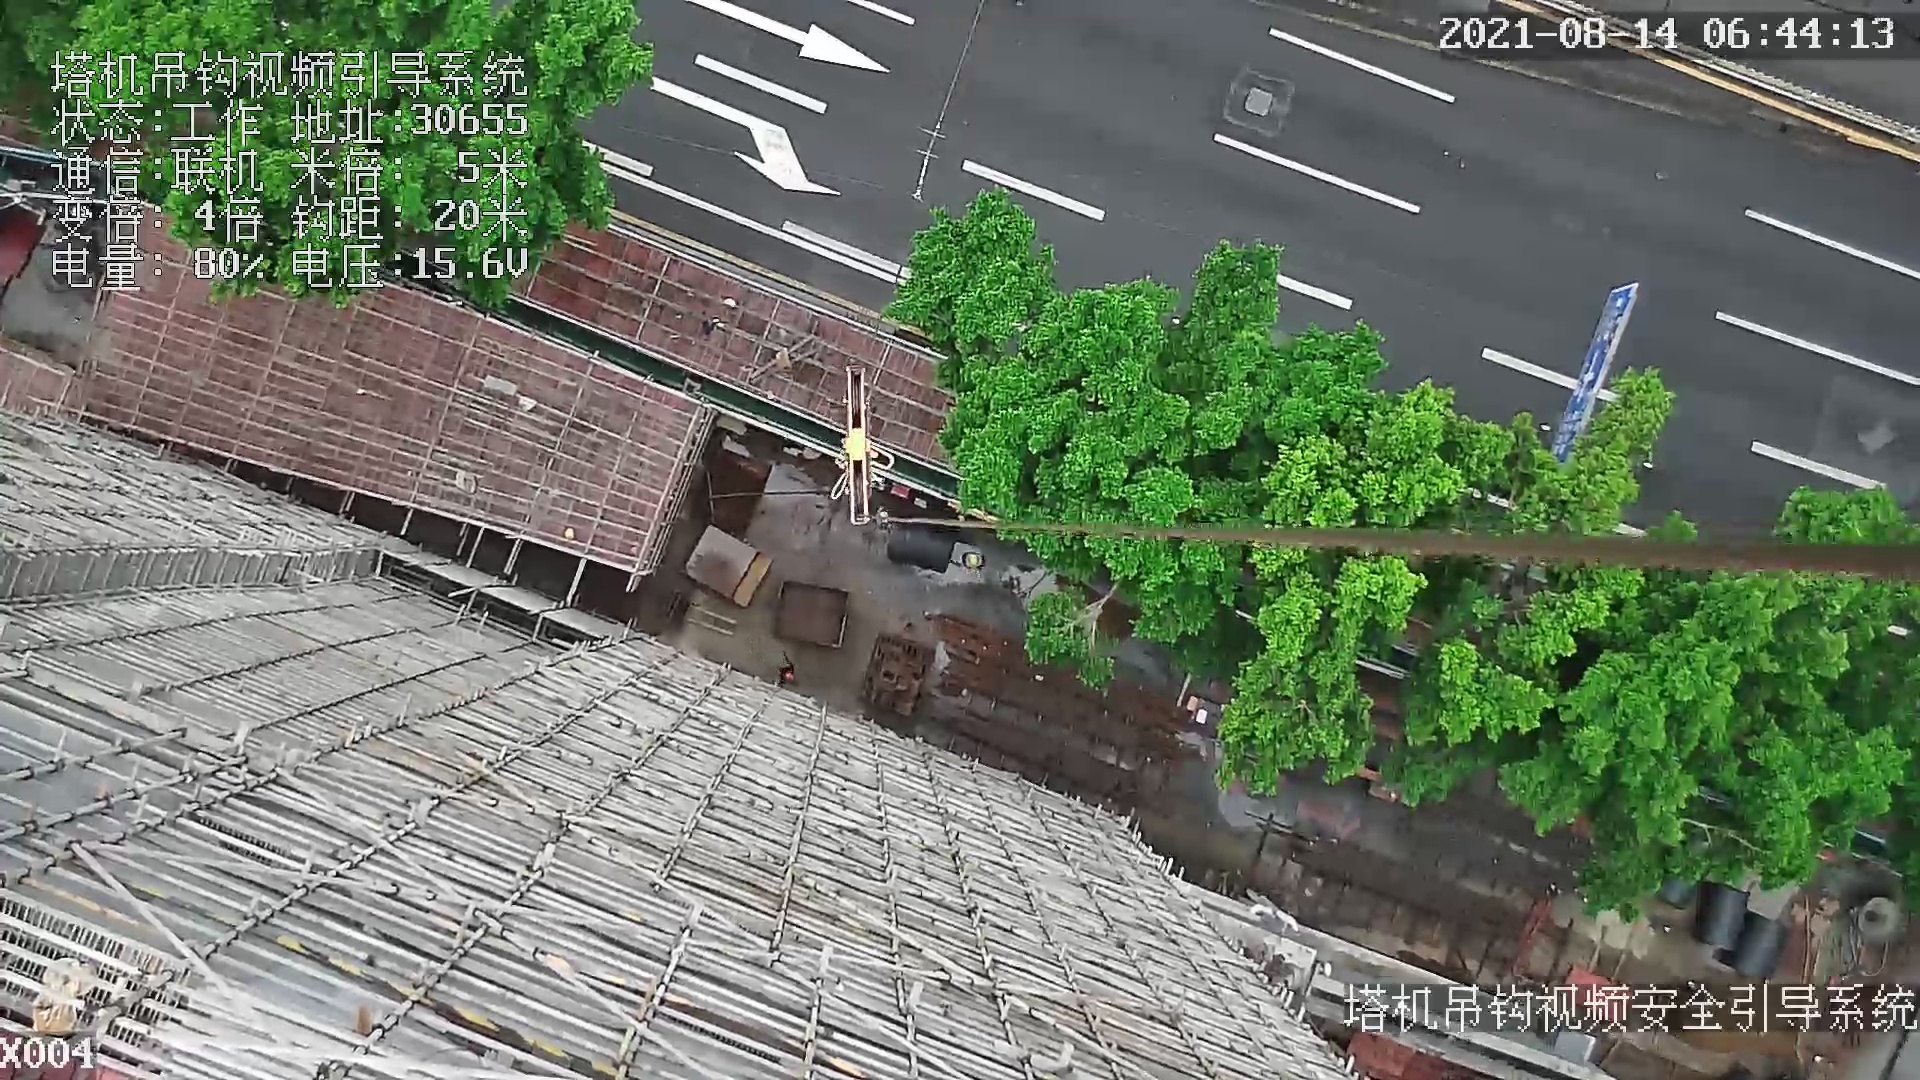person: (958, 549, 991, 578), (777, 653, 803, 687), (873, 504, 892, 529)
